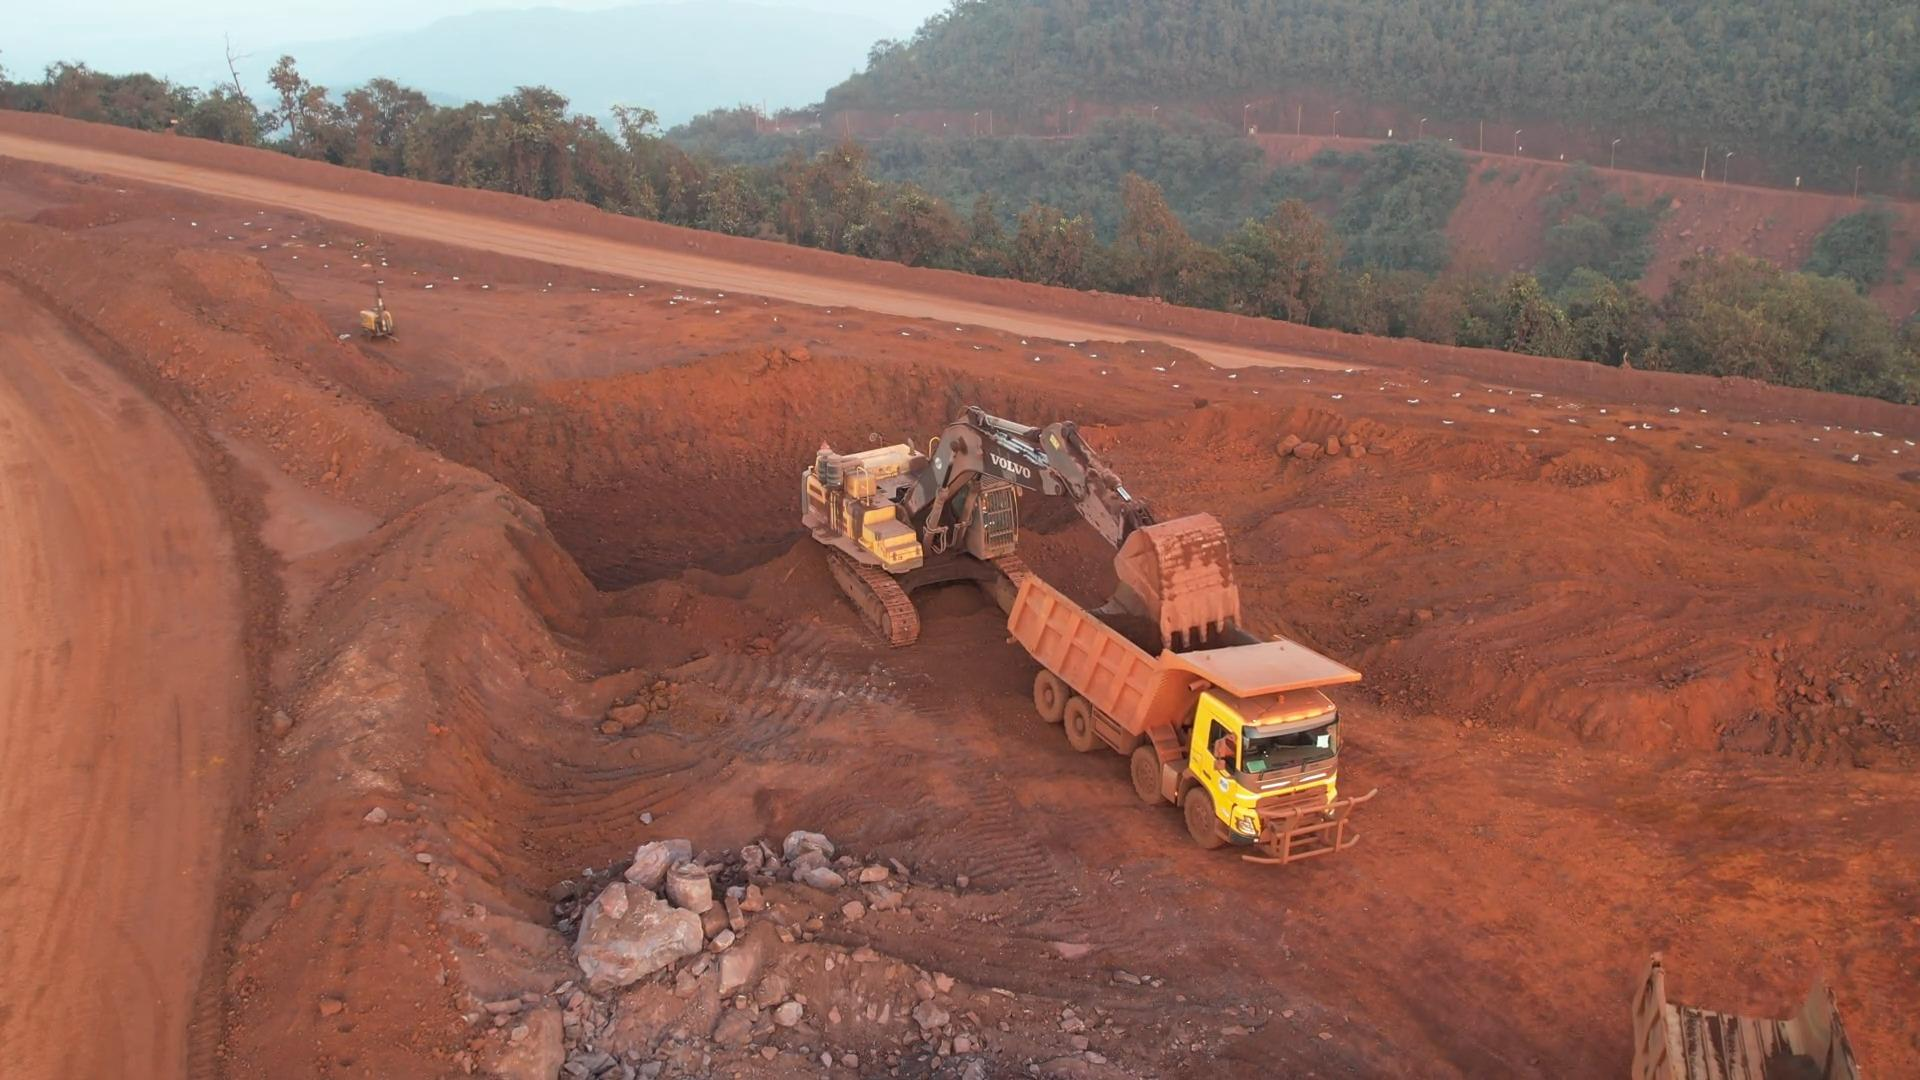excavator: (819, 418, 1228, 628)
